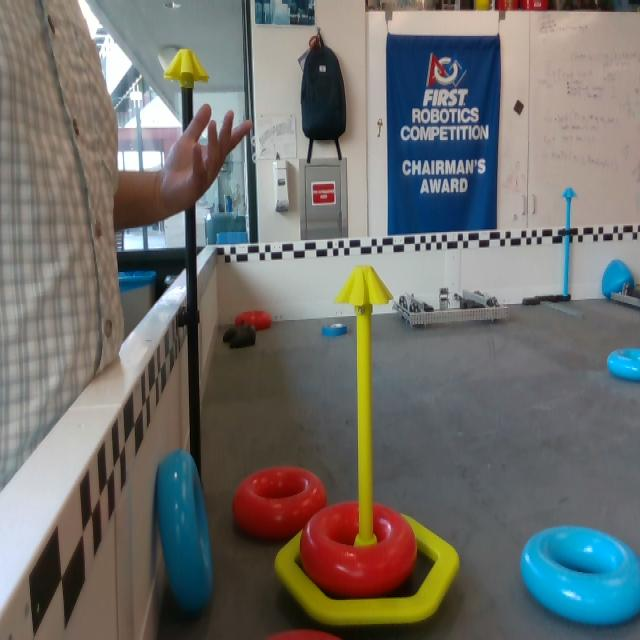Blue-Ring: (518, 525, 639, 626), (156, 450, 212, 613), (605, 347, 639, 379), (323, 321, 346, 336)
Mobile-Goal: (270, 265, 461, 623)
Red-Ring: (301, 500, 418, 593), (230, 465, 328, 543), (236, 311, 271, 332)
Yellow-Stake-Head: (334, 266, 394, 306), (163, 48, 209, 84)
zblue-Stake-Head: (562, 187, 577, 198)
